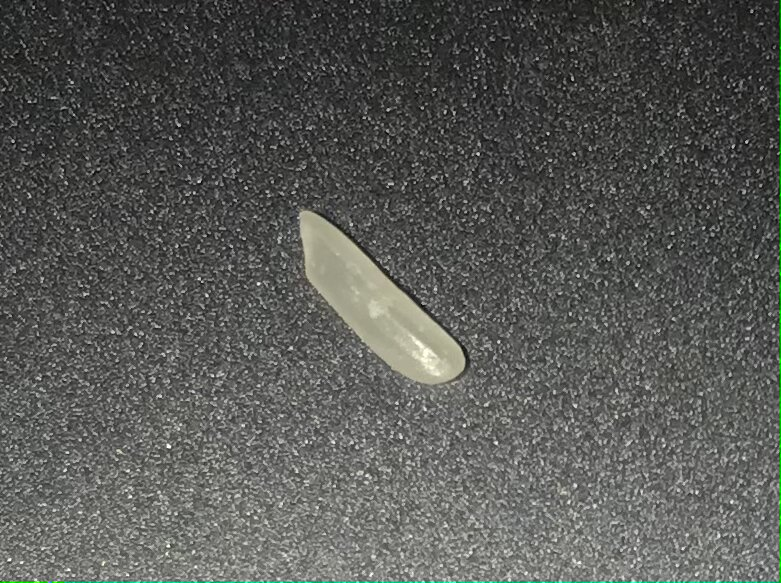Gao Long Lai: (291, 204, 474, 392)
